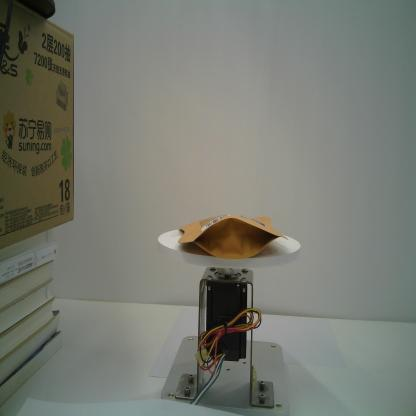Dried Fruit: (177, 213, 289, 260)
